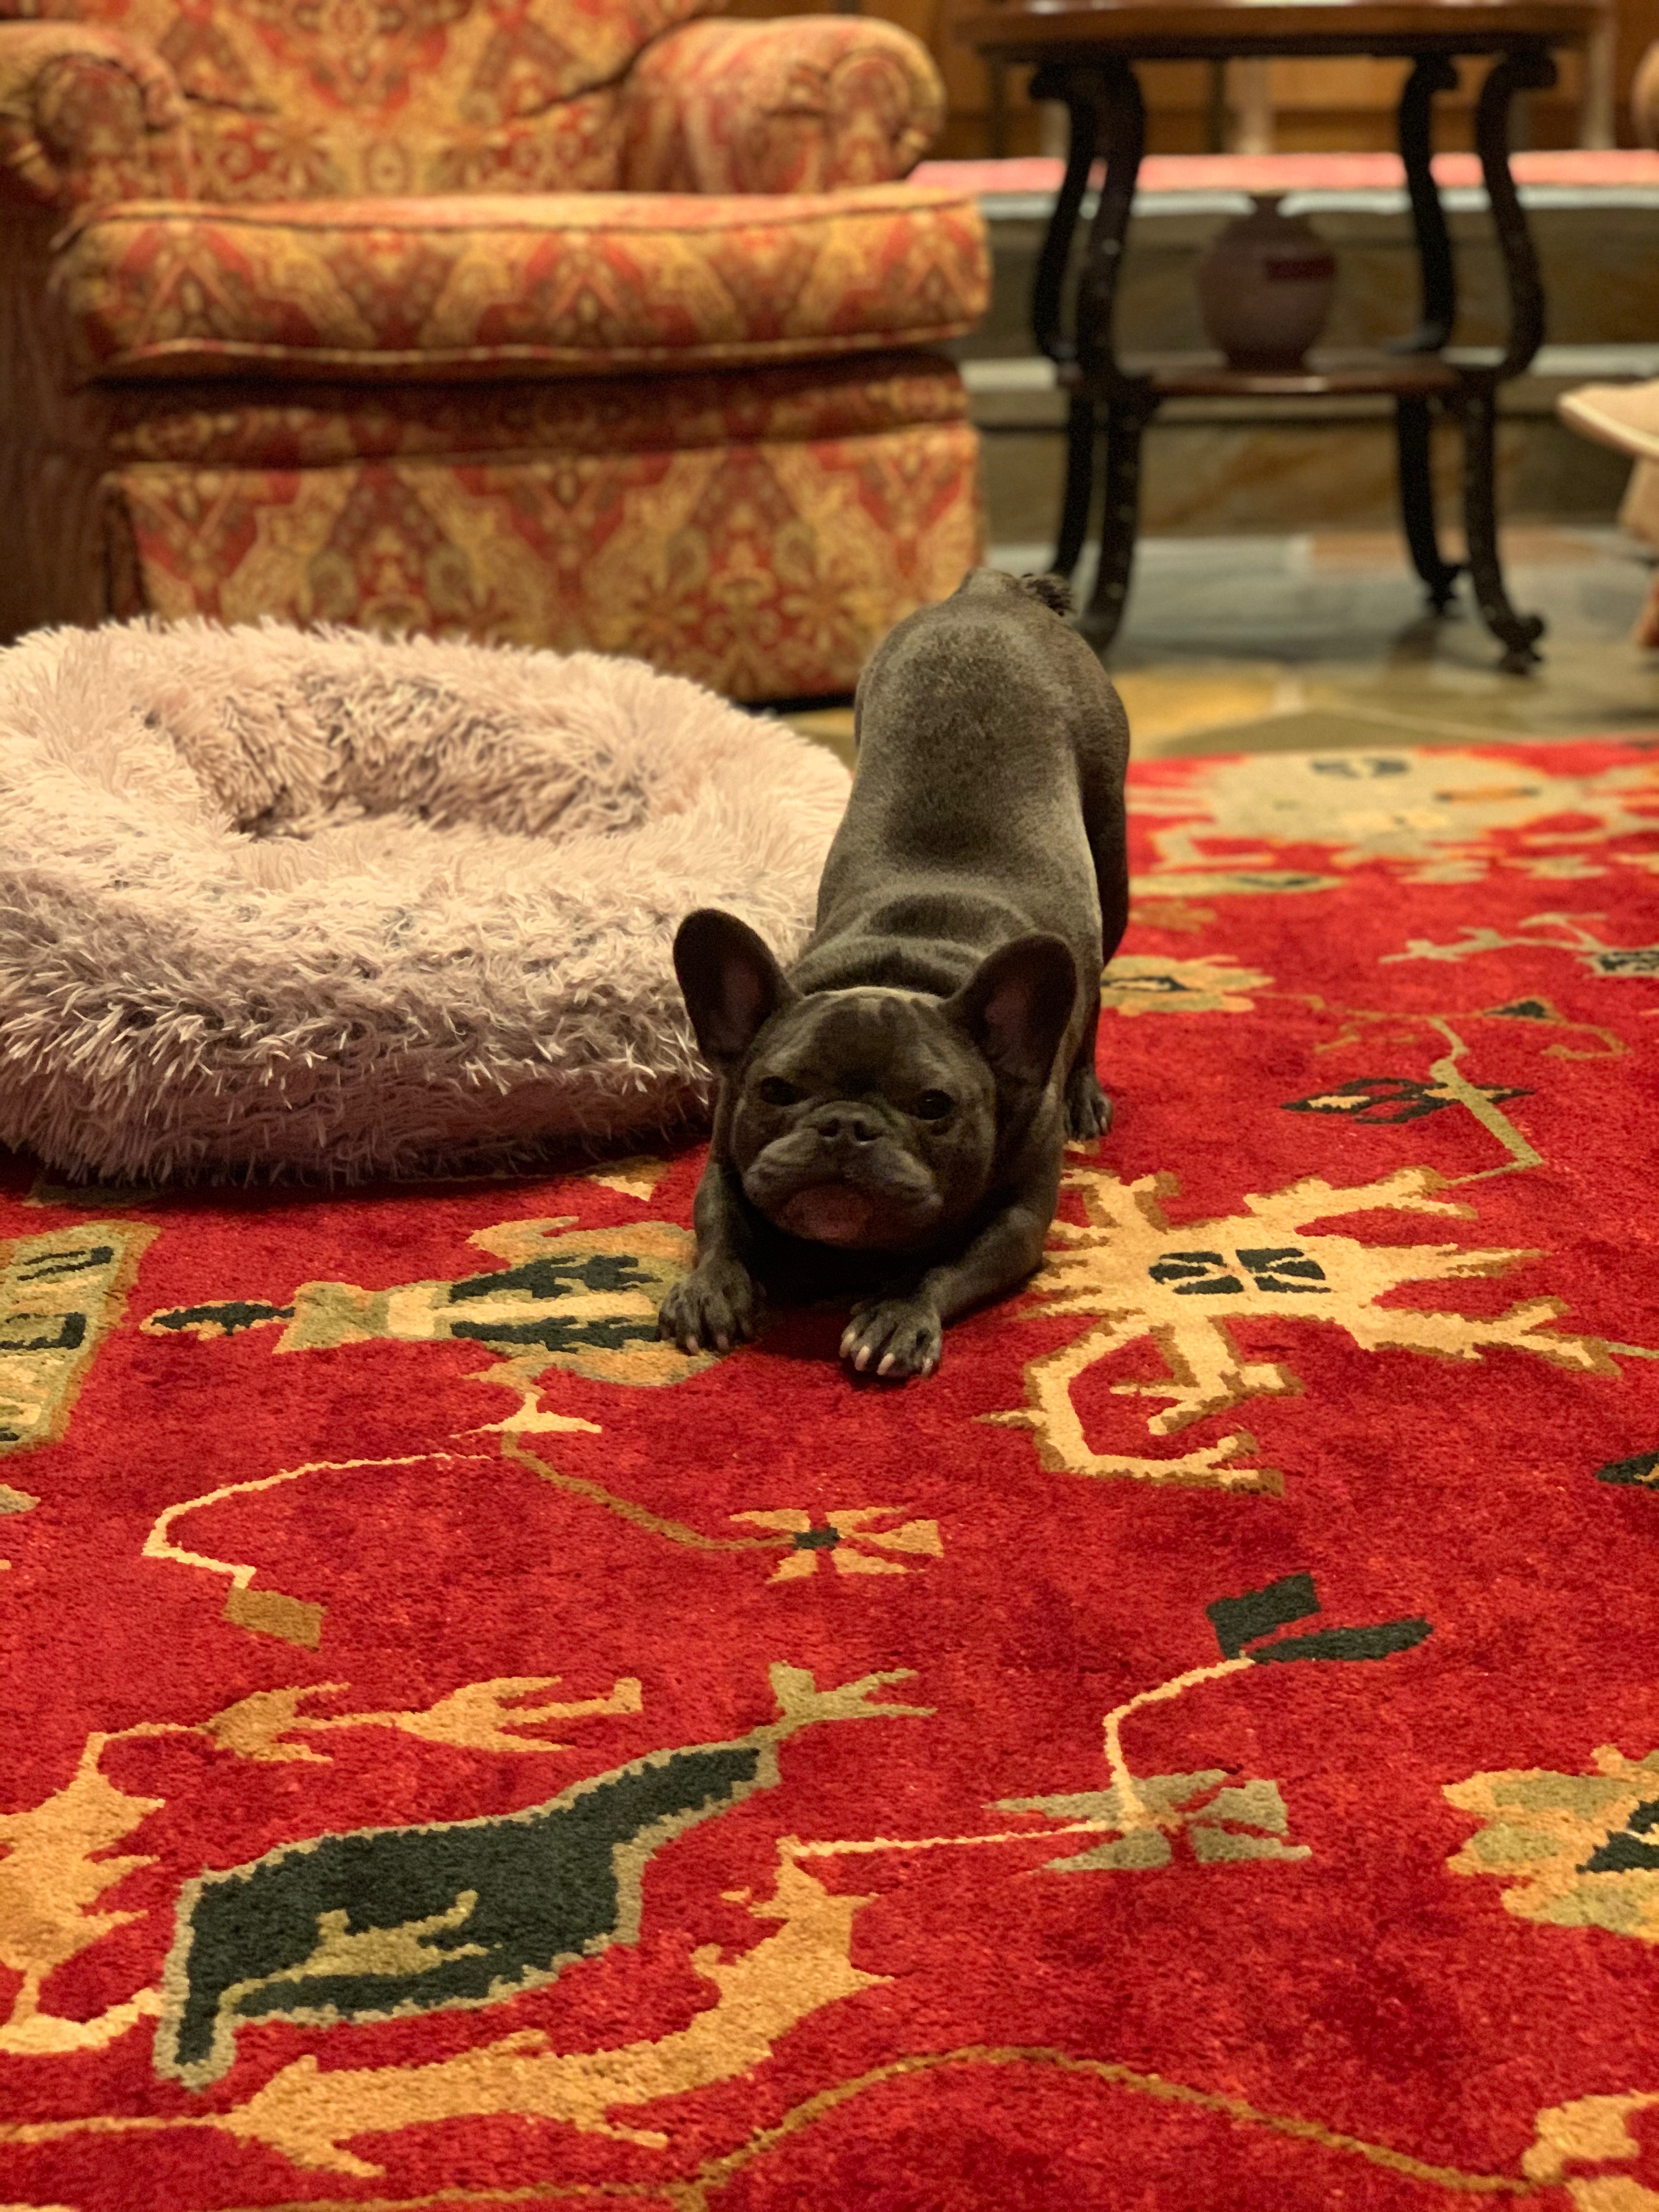lucy: (650, 564, 1143, 1392)
